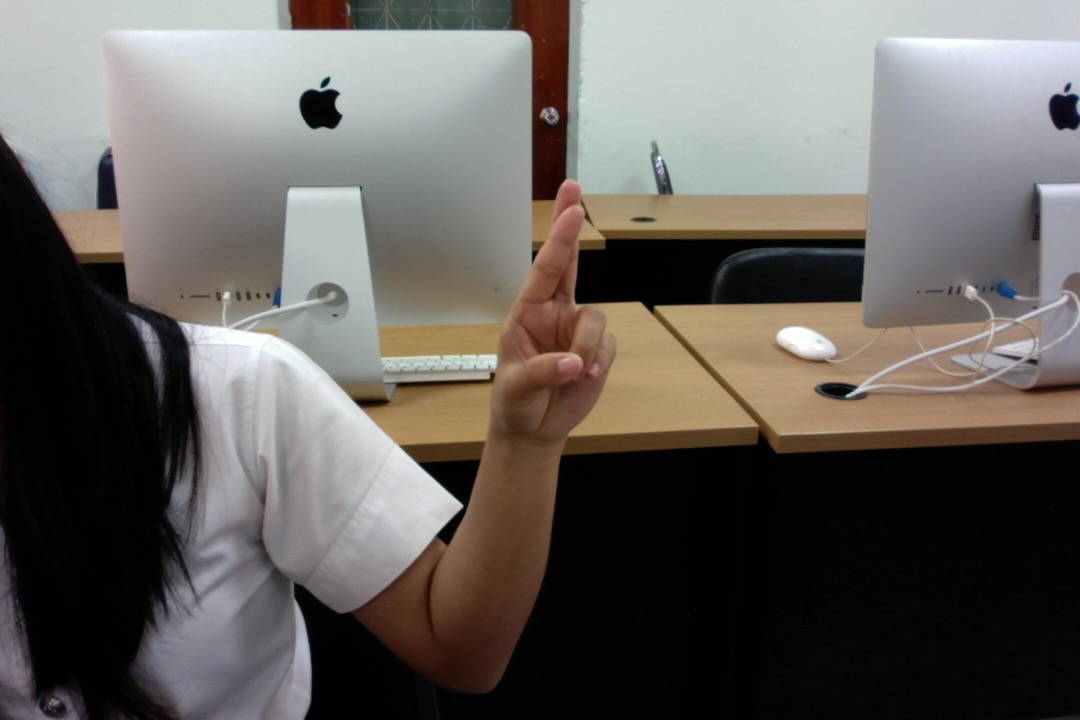rao: (490, 177, 630, 447)
